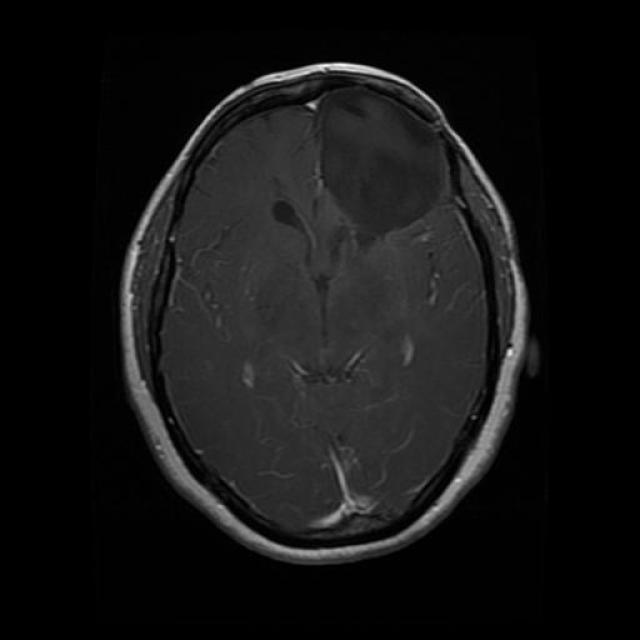Glioma: (315, 81, 445, 238)
